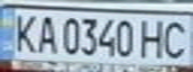0: (57, 14, 81, 56), (115, 16, 139, 58)
3: (78, 15, 100, 56)
4: (97, 16, 118, 57)
A: (33, 12, 60, 55)
C: (157, 17, 193, 60)
H: (136, 16, 169, 60)
K: (6, 10, 42, 54)
